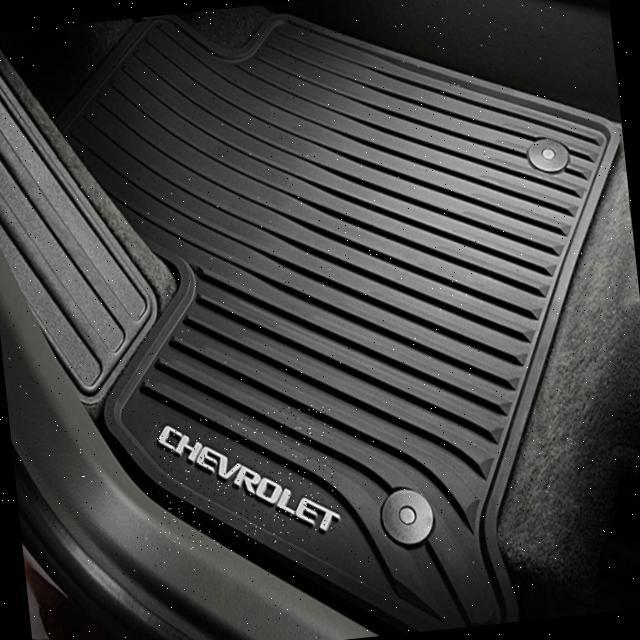Chevrolet: (153, 403, 343, 555)
